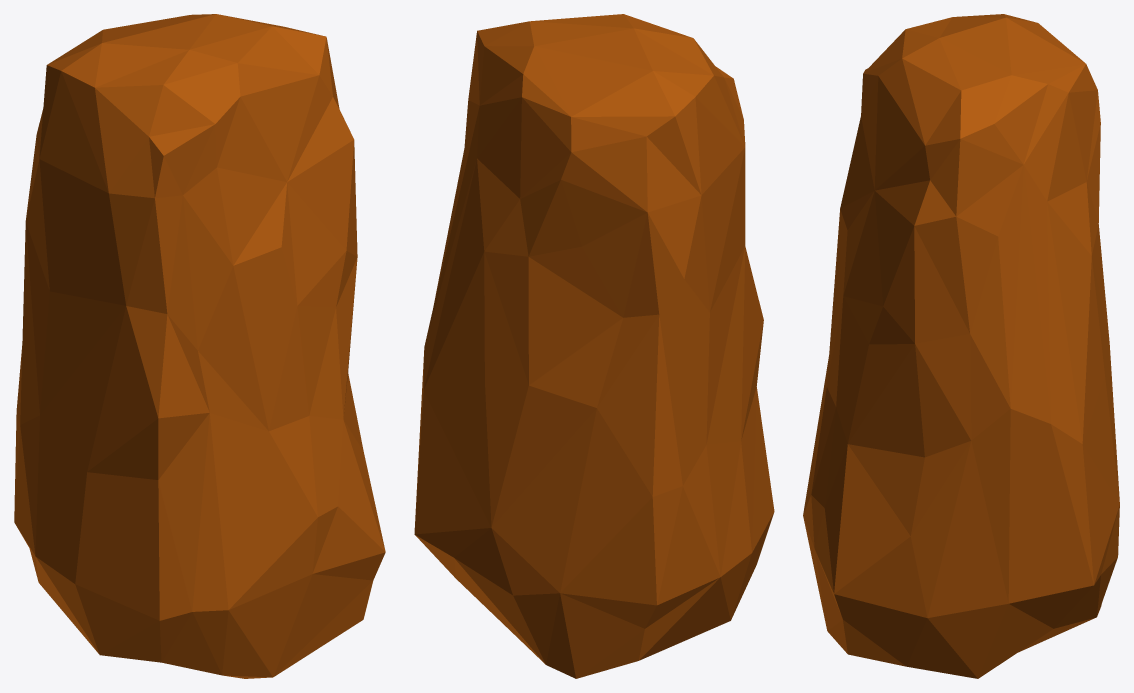
File: Boulder_3.fbx
3 renders of one model, left to right at view 1: azimuth 30°, elevation 25°; view 2: azimuth 150°, elevation 25°; view 3: azimuth 270°, elevation 25°, orthographic. The views are drawn at different scales.
Visible parts, largest first — view 1: Boulder_3; view 2: Boulder_3; view 3: Boulder_3.
Boxes of the visible parts, x1=… form: Boulder_3: x1=14, y1=14, x2=385, y2=678; Boulder_3: x1=414, y1=14, x2=774, y2=678; Boulder_3: x1=803, y1=14, x2=1119, y2=678.
Bounding box in the file's own units: 198 × 400 × 193.
